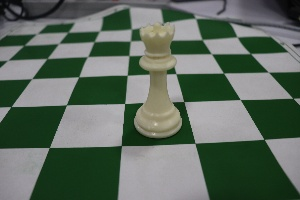white_queen: (122, 12, 194, 147)
